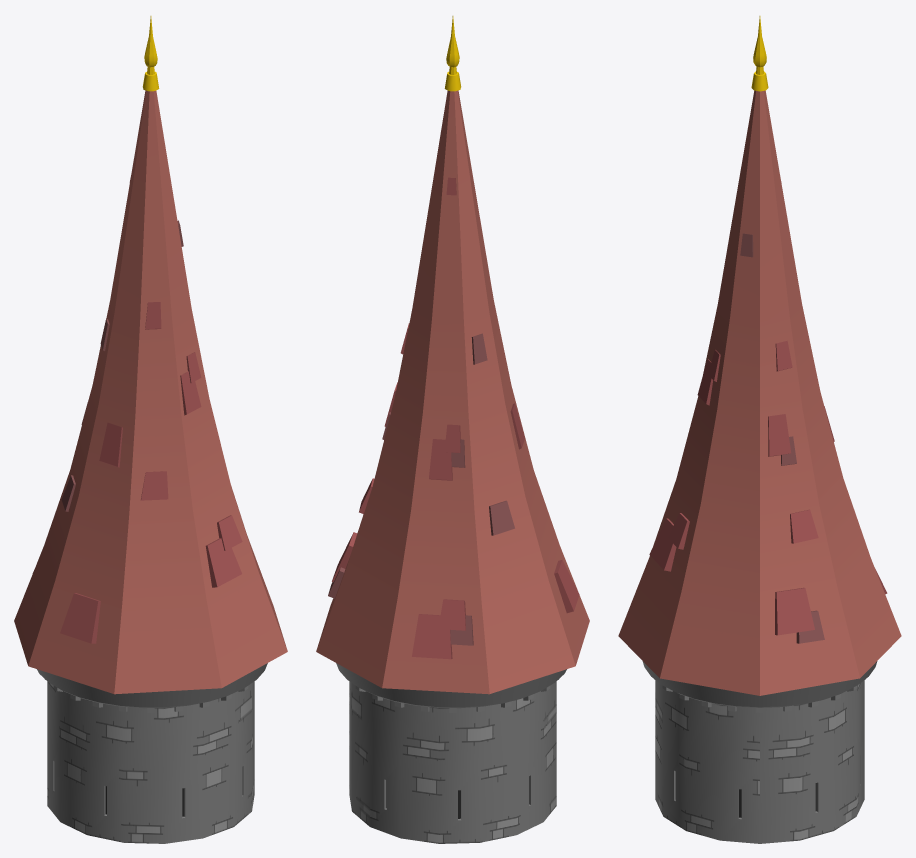
The model's file is rookSpike.gltf.
The picture shows the model from 3 angles, left to right: view 1: azimuth 30°, elevation 25°; view 2: azimuth 150°, elevation 25°; view 3: azimuth 270°, elevation 25°; orthographic projection.
Parts seen in each view (by area): view 1: rookSpike; view 2: rookSpike; view 3: rookSpike.
Part boxes in pixels (x1,y1,x2,y2): rookSpike: (14, 16, 287, 843); rookSpike: (316, 16, 589, 843); rookSpike: (618, 16, 901, 843).
Size of the model in its own units: 9.44 by 28.87 by 9.44.
Materials: 8 (1 with a texture image).
